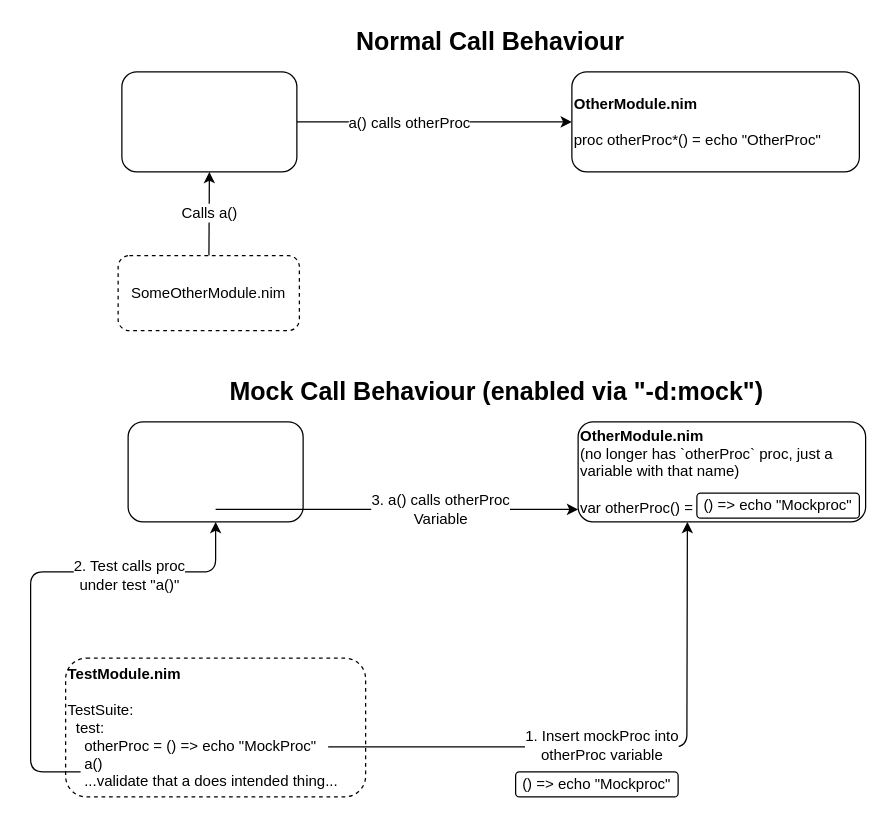
This 888x819 diagram has some shape labels left out. Here are the shapes that lost their labels. From the top down, the centre of each, then its label:
At point 209,121: "ModuleUnderTest.nim Proc under Test: proc a*() = otherProc()".
At point 215,471: "ModuleUnderTest.nim Proc under Test: proc a() = otherProc()".
